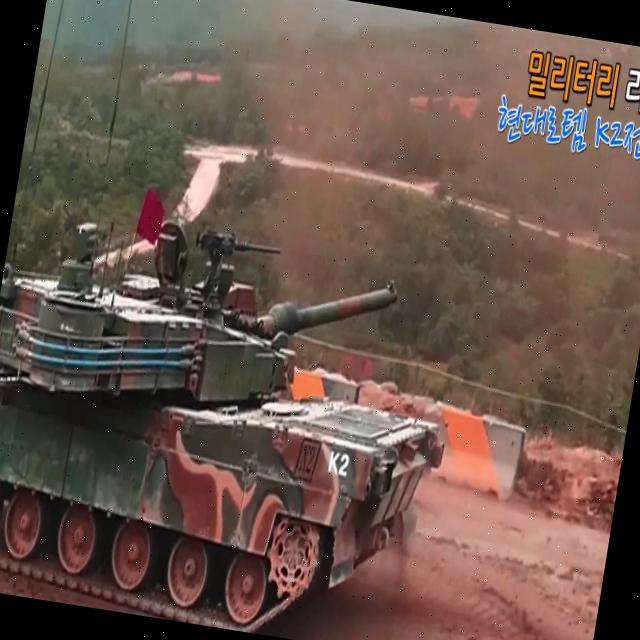korea tank: (0, 199, 472, 640)
